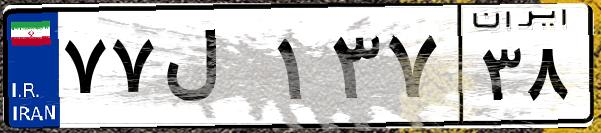1: (270, 28, 330, 110)
3: (330, 28, 385, 110), (475, 38, 525, 113)
7: (385, 28, 445, 110), (57, 26, 110, 100), (110, 28, 158, 98)
8: (525, 38, 570, 115)
ل: (158, 20, 270, 120)
